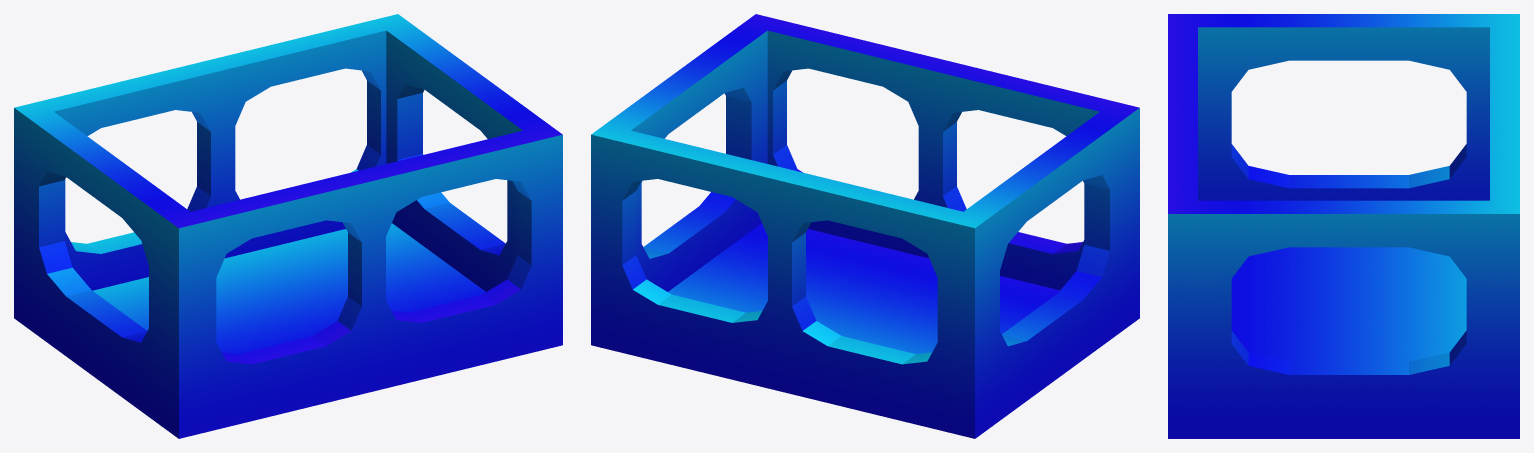
File: bottlebasket.glb
3 renders of one model, left to right at view 1: azimuth 30°, elevation 25°; view 2: azimuth 150°, elevation 25°; view 3: azimuth 270°, elevation 25°, orthographic. The views are drawn at different scales.
Parts seen in each view (by area): view 1: bottle basket; view 2: bottle basket; view 3: bottle basket.
Part boxes in pixels (<box>): bottle basket: <box>14,14,562,438</box>; bottle basket: <box>591,14,1139,438</box>; bottle basket: <box>1168,14,1519,438</box>.
Bounding box in the file's own units: 0.8701 × 0.4561 × 0.6467.
1 material, 1 textured.
